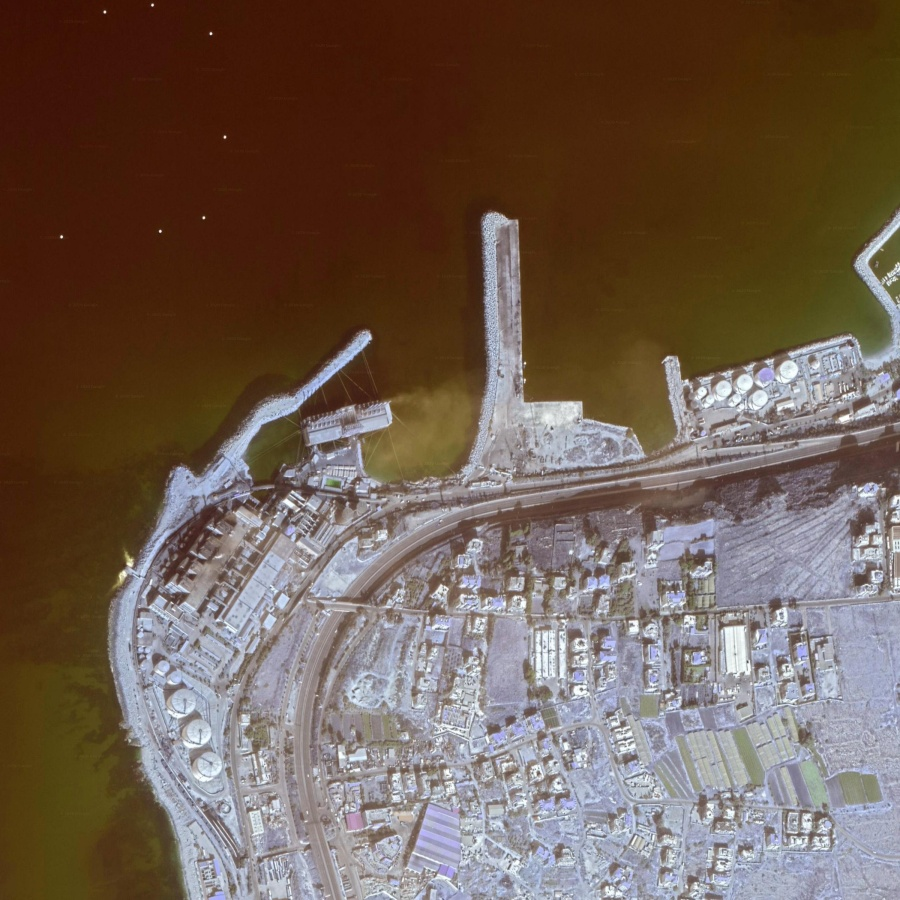PowerPlant: (100, 388, 396, 786)
